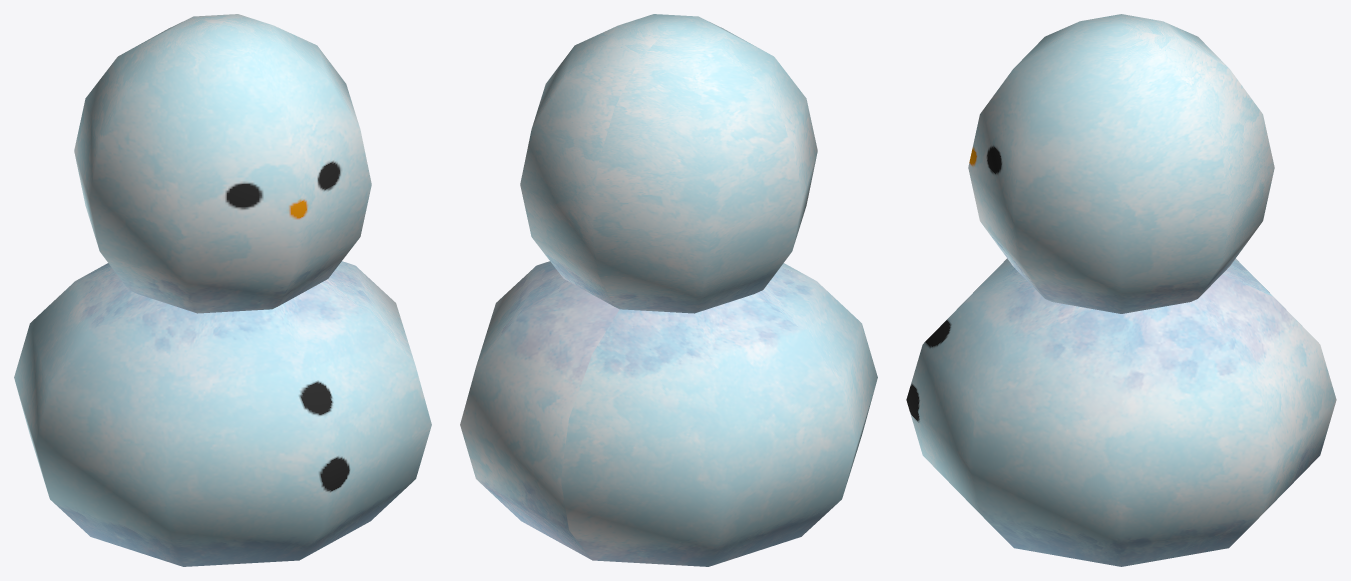
Rendered from snowmen.fbx.
3 views of the same model, side by side, from view 1: azimuth 30°, elevation 25°; view 2: azimuth 150°, elevation 25°; view 3: azimuth 270°, elevation 25° (orthographic).
Parts seen in each view (by area): view 1: pSphere3, pSphere4; view 2: pSphere3, pSphere4; view 3: pSphere3, pSphere4.
Boxes of the visible parts, box(x1,y1,x2,y2) form: pSphere3: box(14, 261, 431, 566); pSphere4: box(74, 14, 371, 313); pSphere3: box(460, 261, 877, 566); pSphere4: box(520, 14, 817, 313); pSphere3: box(906, 258, 1336, 566); pSphere4: box(968, 14, 1274, 313).
Size of the model in its own units: 5.44 by 6.63 by 5.44.
Materials: 1 (1 with a texture image).
